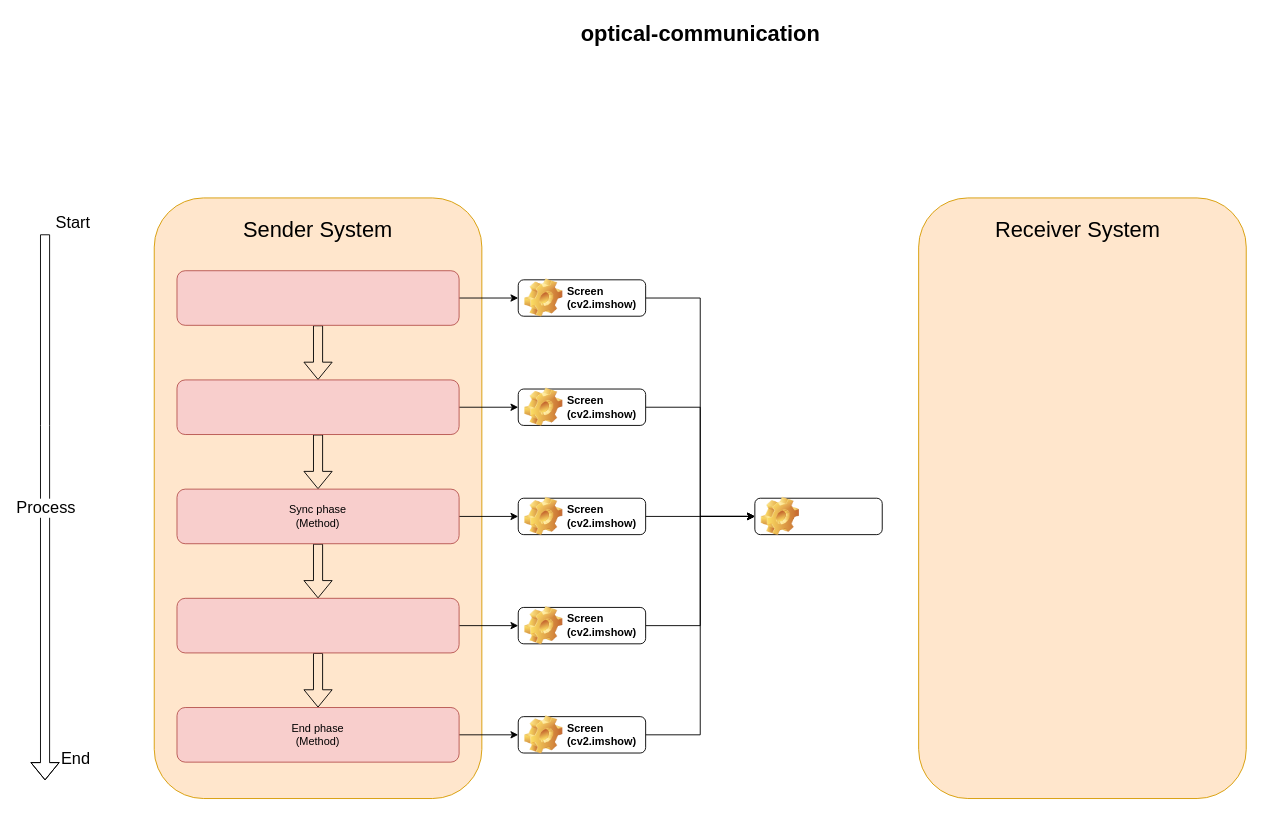
The diagram is 1262 pixels wide and 814 high, and some of its shapes have lost their labels. The box of each missing label's shape, as (x1, y1, x2, y2) in pixels:
Aruco phase (Method): (176, 270, 459, 325)
Bit phase (Method): (176, 597, 459, 653)
Color calibration phase (Method): (176, 379, 459, 435)
Webcam (Independent): (754, 497, 882, 535)
